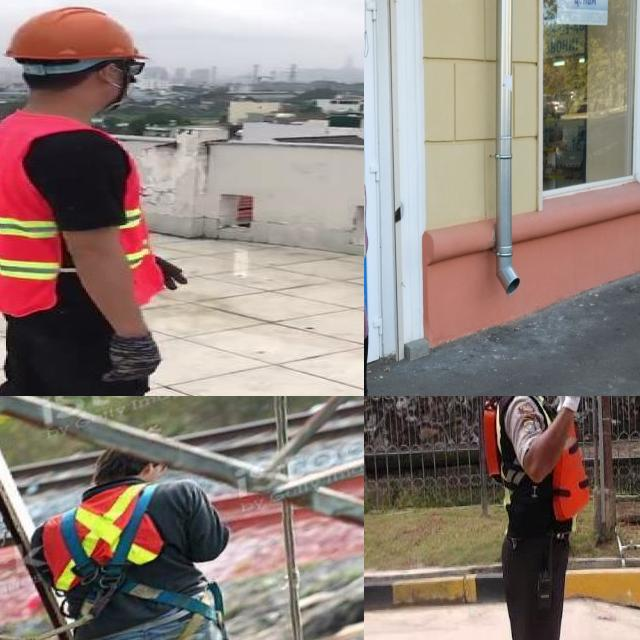Harness: (61, 484, 216, 621)
hand_glove: (106, 334, 160, 381), (152, 245, 187, 290)
head_helmet: (1, 1, 155, 64)
person: (0, 0, 243, 396), (455, 396, 625, 640)
vest: (0, 110, 79, 315), (483, 396, 589, 517), (118, 133, 161, 306)
